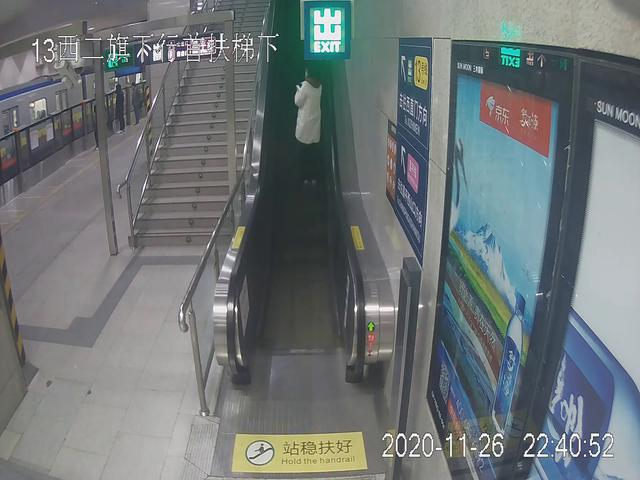person: (292, 63, 325, 188), (114, 85, 127, 131)
